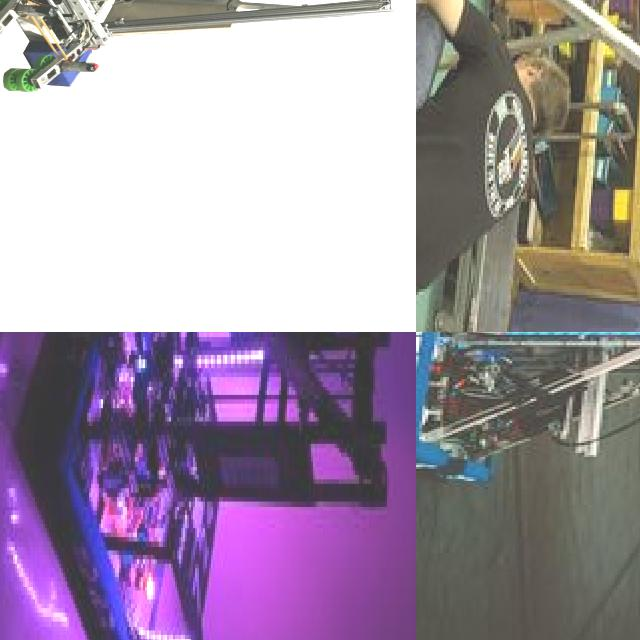FRC-Robots: (2, 332, 416, 640), (0, 0, 389, 104), (416, 332, 640, 490), (416, 0, 640, 68)
